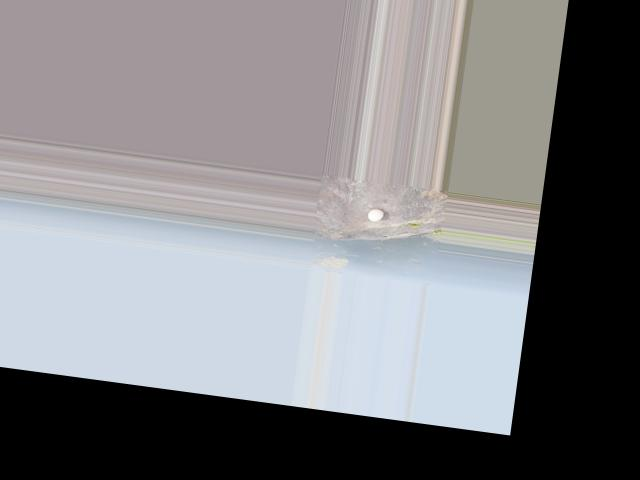egg: (366, 207, 383, 222)
